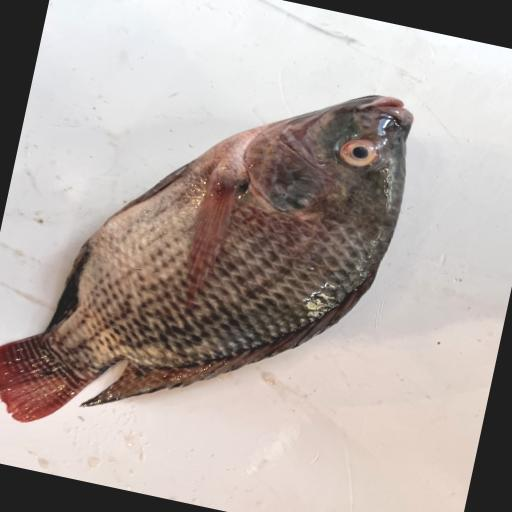Tilapia: (0, 24, 423, 491)
